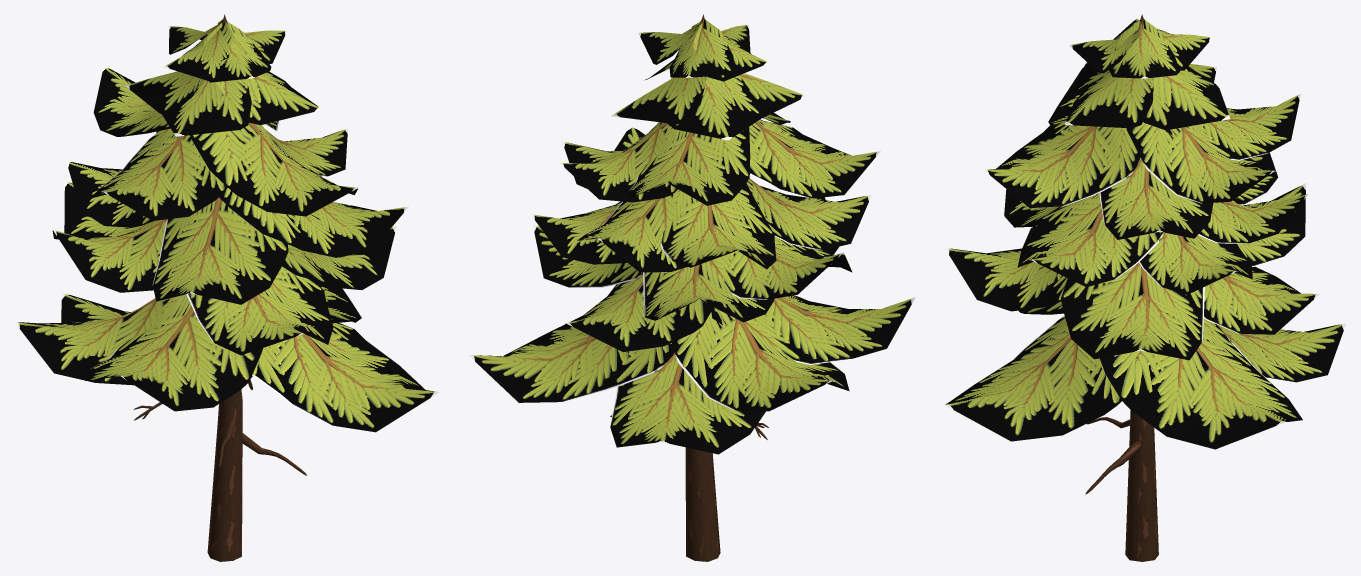
Rendered from PineTree_1.glb.
3 renders of one model, left to right at view 1: azimuth 30°, elevation 25°; view 2: azimuth 150°, elevation 25°; view 3: azimuth 270°, elevation 25°, orthographic.
Parts seen in each view (by area): view 1: PineTree_1; view 2: PineTree_1; view 3: PineTree_1.
Part boxes in pixels (x1,y1,x2,y2): PineTree_1: [14, 14, 439, 561]; PineTree_1: [468, 14, 915, 561]; PineTree_1: [945, 14, 1346, 561].
Size of the model in its own units: 2.98 by 4.5 by 3.03.
2 materials, 2 textured.
